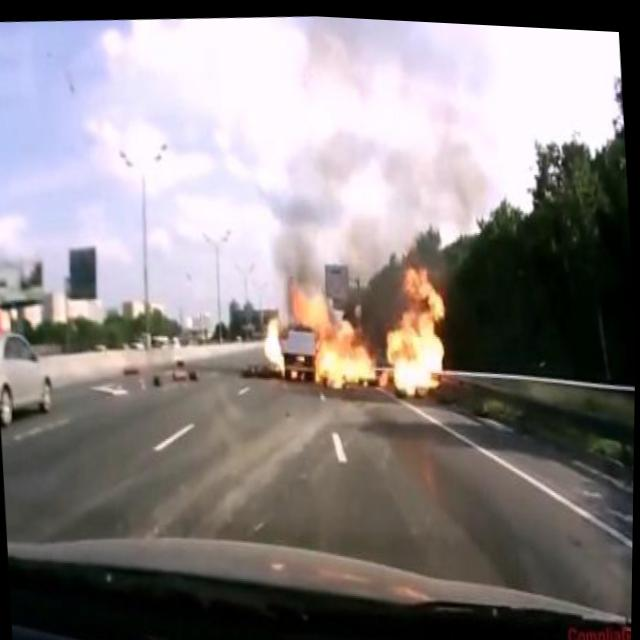fire: (294, 243, 456, 407), (260, 303, 289, 372)
